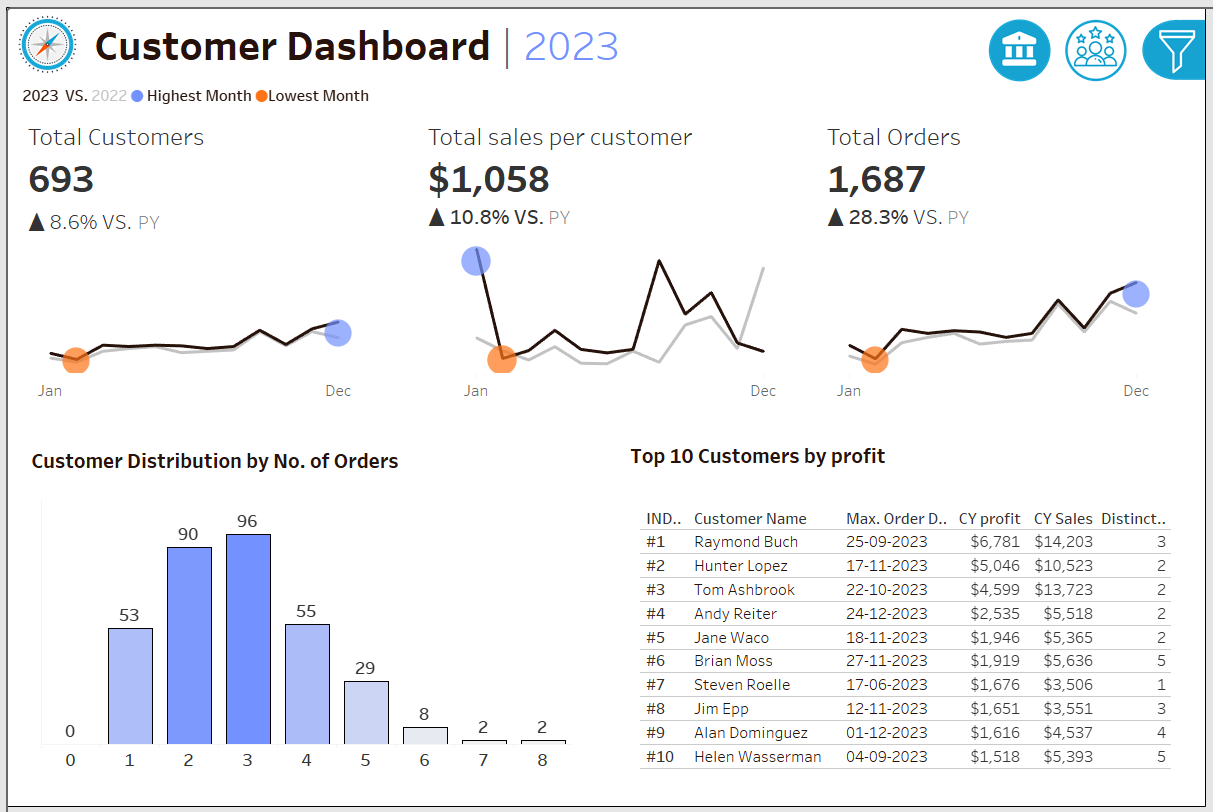

The page's visual inventory and layout, read from the dashboard file:
{"tool":"tableau","page":{"name":"Customer Dashboard","canvas":[1200,800],"ordinal":0},"visuals":[{"type":"image","param":"Image/Icon - Logo.png","box":[1,1,80,72]},{"type":"text","box":[81,1,889,72]},{"type":"dashboard-object","box":[975,7,77,72]},{"type":"dashboard-object","box":[1052,7,76,72]},{"type":"dashboard-object","box":[1128,7,76,72]},{"type":"blank","box":[986,10,202,85]},{"type":"worksheet","title":"Legend KPI","mark":"Automatic","box":[1,73,1198,29]},{"type":"text","box":[986,95,202,36]},{"type":"worksheet","title":"KPI Customers","mark":"Automatic","rows":["Calculation_340584789769302022"],"cols":["Order Date"],"box":[1,102,400,311]},{"type":"worksheet","title":"KPI sales per customer","mark":"Automatic","rows":["Calculation_340584789797163027"],"cols":["Order Date"],"box":[401,102,399,311]},{"type":"worksheet","title":"KPI Orders","mark":"Automatic","rows":["Min/Max Customers (copy)_340584789775798283"],"cols":["Order Date"],"box":[800,102,399,311]},{"type":"parameter","param":"[Parameters].[Parameter 1]","box":[986,131,202,56]},{"type":"text","box":[986,187,202,36]},{"type":"filter","title":"KPI Customers","param":"[federated.0ijhjs61j635ys147teke0o80fxq].[none:Category:nk]","box":[986,223,202,61]},{"type":"filter","title":"KPI Customers","param":"[federated.0ijhjs61j635ys147teke0o80fxq].[none:Sub-Category:nk]","box":[986,284,202,61]},{"type":"blank","box":[986,345,202,60]},{"type":"text","box":[986,405,202,36]},{"type":"text","box":[18,430,565,45]},{"type":"text","box":[617,430,565,35]},{"type":"filter","title":"KPI Customers","param":"[federated.0ijhjs61j635ys147teke0o80fxq].[none:Region:nk]","box":[986,441,202,61]},{"type":"worksheet","title":"Top Customers","mark":"Automatic","rows":["Calculation_779685753671438341","Customer Name","Order Date"],"box":[617,465,565,314]},{"type":"worksheet","title":"Customer Distribution","mark":"Bar","rows":["Calculation_340584789767446531"],"cols":["Calculation_779685753666736128"],"box":[18,475,565,307]},{"type":"filter","title":"KPI Customers","param":"[federated.0ijhjs61j635ys147teke0o80fxq].[none:State:nk]","box":[986,502,202,61]},{"type":"filter","title":"KPI Customers","param":"[federated.0ijhjs61j635ys147teke0o80fxq].[none:City:nk]","box":[986,563,202,61]}]}

Visuals, with their boxes in screenshot pixels (x1, y1, x2, y2), scaled from the page's 1200x800 canvas onto the 1213x812 screenshot:
image: <bbox>1, 1, 82, 74</bbox>
text: <bbox>82, 1, 981, 74</bbox>
dashboard-object: <bbox>986, 7, 1063, 80</bbox>
dashboard-object: <bbox>1063, 7, 1140, 80</bbox>
dashboard-object: <bbox>1140, 7, 1212, 80</bbox>
blank: <bbox>997, 10, 1201, 96</bbox>
"Legend KPI" worksheet: <bbox>1, 74, 1212, 104</bbox>
text: <bbox>997, 96, 1201, 133</bbox>
"KPI Customers" worksheet: <bbox>1, 104, 405, 419</bbox>
"KPI sales per customer" worksheet: <bbox>405, 104, 809, 419</bbox>
"KPI Orders" worksheet: <bbox>809, 104, 1212, 419</bbox>
parameter: <bbox>997, 133, 1201, 190</bbox>
text: <bbox>997, 190, 1201, 226</bbox>
"KPI Customers" filter: <bbox>997, 226, 1201, 288</bbox>
"KPI Customers" filter: <bbox>997, 288, 1201, 350</bbox>
blank: <bbox>997, 350, 1201, 411</bbox>
text: <bbox>997, 411, 1201, 448</bbox>
text: <bbox>18, 436, 589, 482</bbox>
text: <bbox>624, 436, 1195, 472</bbox>
"KPI Customers" filter: <bbox>997, 448, 1201, 510</bbox>
"Top Customers" worksheet: <bbox>624, 472, 1195, 791</bbox>
"Customer Distribution" worksheet (Bar marks): <bbox>18, 482, 589, 794</bbox>
"KPI Customers" filter: <bbox>997, 510, 1201, 571</bbox>
"KPI Customers" filter: <bbox>997, 571, 1201, 633</bbox>
